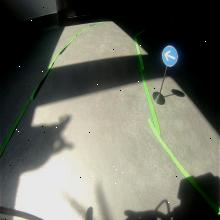left: (161, 44, 178, 67)
